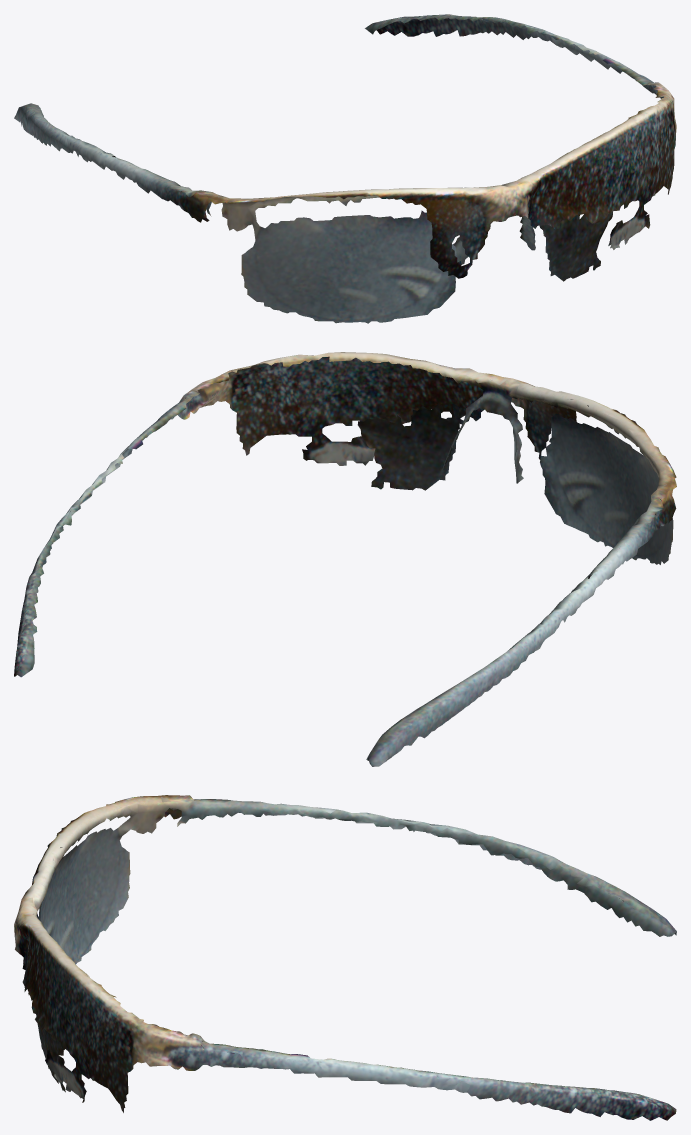
Rendered from scan_align.obj.
3 views of the same model, one above another, from view 1: azimuth 30°, elevation 25°; view 2: azimuth 150°, elevation 25°; view 3: azimuth 270°, elevation 25° (orthographic). The views are drawn at different scales.
Size of the model in its own units: 0.1429 by 0.0377 by 0.1604.
1 material, 1 textured.
